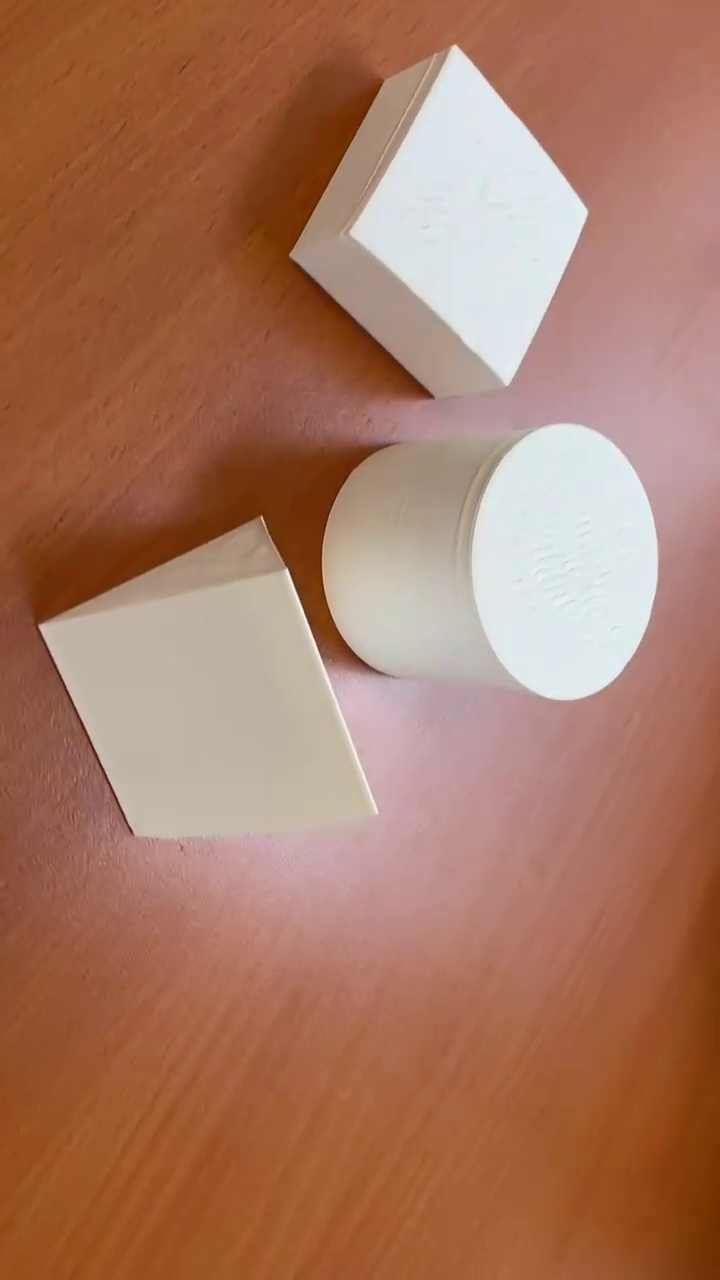Cube_short: (281, 41, 587, 396)
Cylinder: (315, 422, 659, 702)
Triangle: (31, 513, 379, 834)
